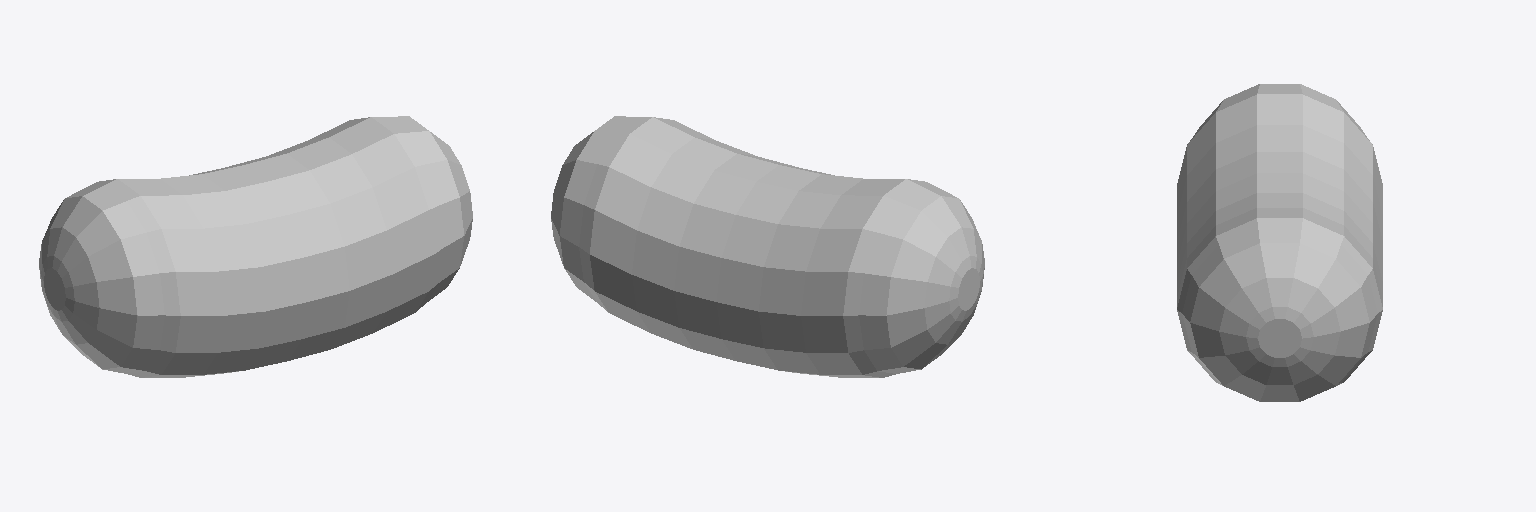
The model's file is platform.obj.
3 renders of one model, left to right at view 1: azimuth 30°, elevation 25°; view 2: azimuth 150°, elevation 25°; view 3: azimuth 270°, elevation 25°, orthographic.
Visible parts, largest first — view 1: Cube_Cube.001; view 2: Cube_Cube.001; view 3: Cube_Cube.001.
Boxes of the visible parts, box(x1,y1,x2,y2) form: Cube_Cube.001: box(39, 116, 472, 377); Cube_Cube.001: box(551, 116, 984, 377); Cube_Cube.001: box(1177, 84, 1382, 401).
Bounding box in the file's own units: 2.5 × 1.18 × 1.11.